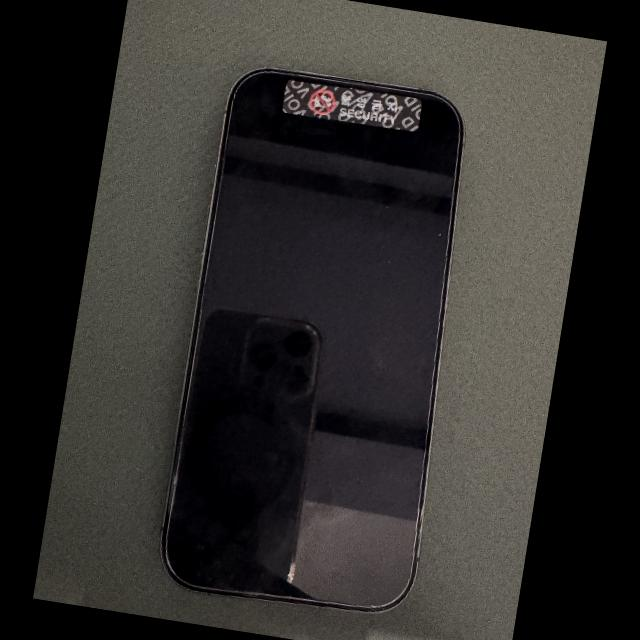phone: (161, 69, 464, 611)
sticker: (282, 79, 421, 132)
